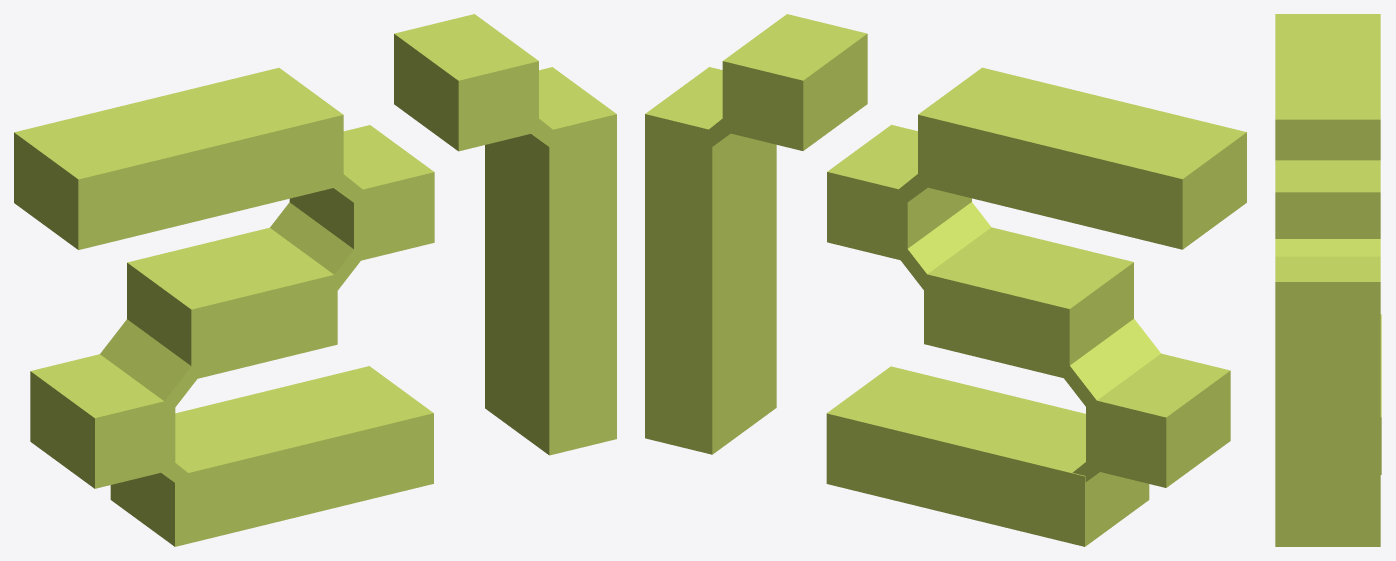
The model's file is 21 ready.glb.
3 renders of one model, left to right at view 1: azimuth 30°, elevation 25°; view 2: azimuth 150°, elevation 25°; view 3: azimuth 270°, elevation 25°, orthographic. The views are drawn at different scales.
Visible parts, largest first — view 1: Cube.6, Cube, Cube.1, Cube.4, Cube.5, Cube.3, Cube.2, Cube.9, Cube.8, Cube.10, Cube.11, Cube.7; view 2: Cube.6, Cube, Cube.1, Cube.4, Cube.5, Cube.3, Cube.2, Cube.9, Cube.8, Cube.7; view 3: Cube.6, Cube, Cube.5, Cube.11, Cube.1.
Part boxes in pixels (left/top/right/bottom): Cube.6: left=485, top=67, right=616, bottom=455; Cube: left=14, top=68, right=343, bottom=249; Cube.1: left=110, top=366, right=433, bottom=546; Cube.4: left=127, top=227, right=337, bottom=378; Cube.5: left=394, top=14, right=538, bottom=151; Cube.3: left=30, top=354, right=175, bottom=488; Cube.2: left=289, top=125, right=434, bottom=260; Cube.9: left=100, top=319, right=221, bottom=441; Cube.8: left=270, top=202, right=392, bottom=312; Cube.10: left=144, top=445, right=226, bottom=516; Cube.11: left=510, top=104, right=592, bottom=174; Cube.7: left=316, top=160, right=397, bottom=230; Cube.6: left=645, top=67, right=776, bottom=454; Cube: left=918, top=67, right=1246, bottom=249; Cube.1: left=826, top=366, right=1149, bottom=546; Cube.4: left=924, top=227, right=1133, bottom=379; Cube.5: left=722, top=14, right=867, bottom=150; Cube.3: left=1086, top=353, right=1230, bottom=487; Cube.2: left=827, top=125, right=971, bottom=259; Cube.9: left=1040, top=319, right=1160, bottom=440; Cube.8: left=868, top=202, right=991, bottom=312; Cube.7: left=863, top=159, right=945, bottom=229; Cube.6: left=1275, top=256, right=1380, bottom=546; Cube: left=1275, top=14, right=1380, bottom=160; Cube.5: left=1275, top=160, right=1380, bottom=238; Cube.11: left=1275, top=239, right=1380, bottom=256; Cube.1: left=1380, top=314, right=1381, bottom=474.
Bounding box in the file's own units: 3.11 × 2.2 × 0.6515.
